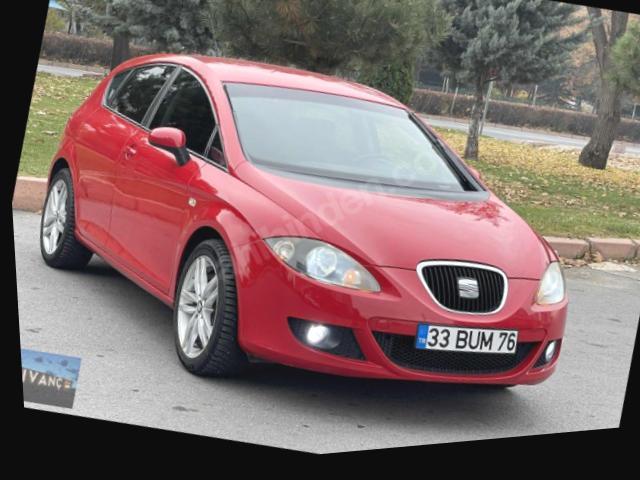plaka: (415, 324, 518, 354)
